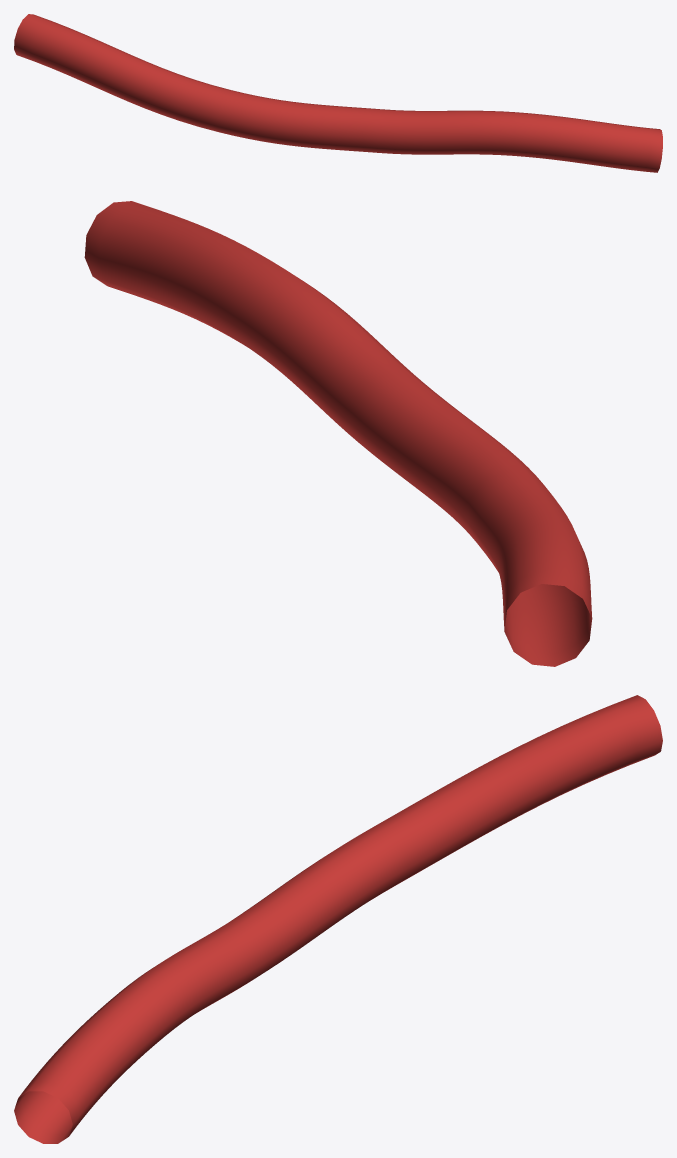
3 renders of one model, top to bottom at view 1: azimuth 30°, elevation 25°; view 2: azimuth 150°, elevation 25°; view 3: azimuth 270°, elevation 25°, orthographic. The views are drawn at different scales.
Visible parts, largest first — view 1: 右侧腋动脉; view 2: 右侧腋动脉; view 3: 右侧腋动脉.
Part boxes in pixels (x1,y1,x2,y2): 右侧腋动脉: (14, 14, 662, 172); 右侧腋动脉: (84, 201, 592, 666); 右侧腋动脉: (14, 695, 662, 1143).
Size of the model in its own units: 0.0859 by 0.0194 by 0.075.
